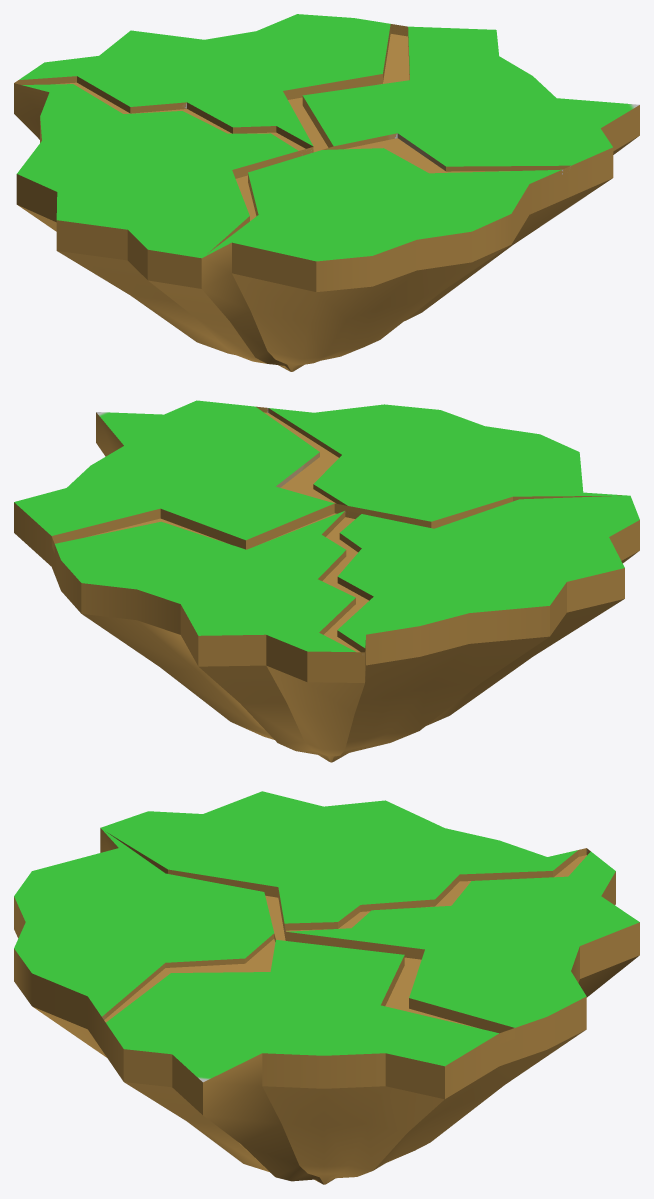
The model's file is CrackedPlatform.fbx.
The picture shows the model from 3 angles, top to bottom: view 1: azimuth 30°, elevation 25°; view 2: azimuth 150°, elevation 25°; view 3: azimuth 270°, elevation 25°; orthographic projection. The views are drawn at different scales.
Parts seen in each view (by area): view 1: Circle; view 2: Circle; view 3: Circle.
Boxes of the visible parts, x1=… form: Circle: x1=14, y1=14, x2=639, y2=371; Circle: x1=14, y1=400, x2=639, y2=762; Circle: x1=14, y1=791, x2=639, y2=1184.
Bounding box in the file's own units: 1545 × 628 × 1404.
Materials: 1 (1 with a texture image).
